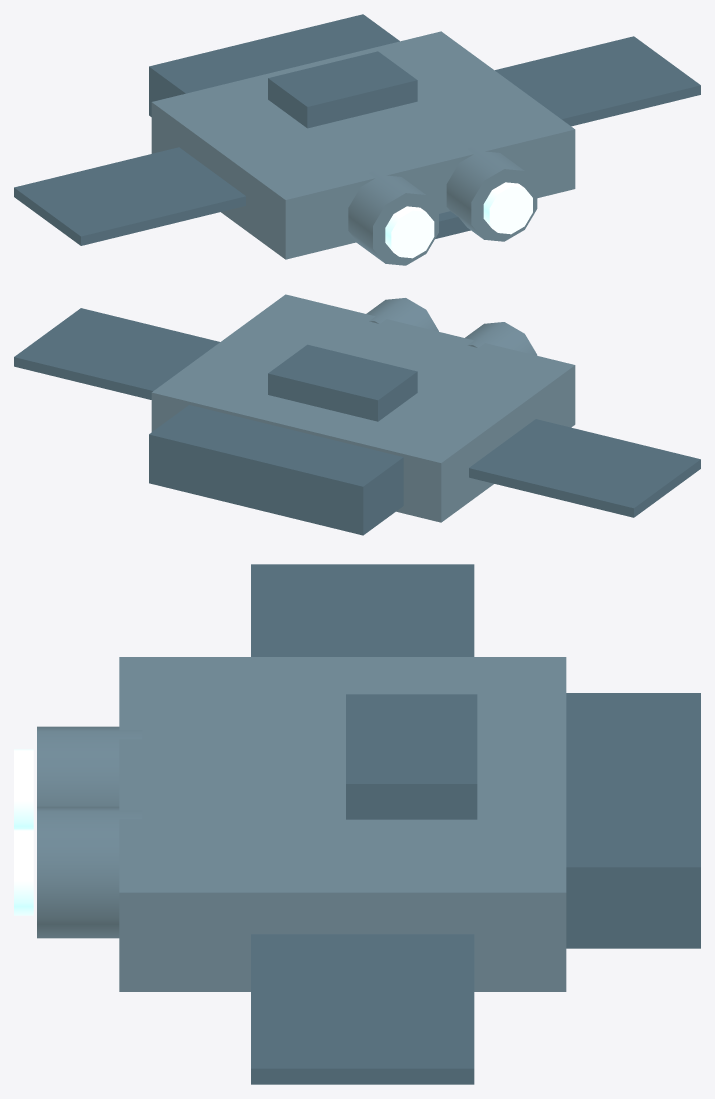
Rendered from interceptor_fighter.glb.
3 views of the same model, one above another, from view 1: azimuth 30°, elevation 25°; view 2: azimuth 150°, elevation 25°; view 3: azimuth 270°, elevation 25° (orthographic). The views are drawn at different scales.
Visible parts, largest first — view 1: MainHull, PortWing, StarboardWing, ForeHull, Bridge, Engine0, Engine1, EngineGlow0, EngineGlow1, Keel; view 2: MainHull, ForeHull, PortWing, StarboardWing, Bridge, Engine0, Engine1; view 3: MainHull, ForeHull, StarboardWing, PortWing, Bridge, Engine1, Engine0, EngineGlow1, EngineGlow0.
Part boxes in pixels (x1=…): MainHull: x1=151, y1=31, x2=575, y2=259; PortWing: x1=14, y1=147, x2=245, y2=245; StarboardWing: x1=495, y1=36, x2=700, y2=126; ForeHull: x1=149, y1=14, x2=399, y2=116; Bridge: x1=268, y1=51, x2=417, y2=128; Engine0: x1=348, y1=170, x2=438, y2=265; Engine1: x1=446, y1=146, x2=537, y2=241; EngineGlow0: x1=385, y1=206, x2=434, y2=258; EngineGlow1: x1=483, y1=182, x2=532, y2=234; Keel: x1=435, y1=211, x2=470, y2=238; MainHull: x1=151, y1=294, x2=575, y2=522; ForeHull: x1=149, y1=405, x2=403, y2=535; PortWing: x1=469, y1=419, x2=700, y2=517; StarboardWing: x1=14, y1=308, x2=219, y2=399; Bridge: x1=268, y1=344, x2=417, y2=421; Engine0: x1=465, y1=322, x2=537, y2=355; Engine1: x1=366, y1=298, x2=438, y2=331; MainHull: x1=119, y1=657, x2=566, y2=991; ForeHull: x1=566, y1=693, x2=700, y2=948; StarboardWing: x1=251, y1=934, x2=474, y2=1084; PortWing: x1=251, y1=564, x2=474, y2=656; Bridge: x1=346, y1=694, x2=477, y2=819; Engine1: x1=37, y1=806, x2=142, y2=938; Engine0: x1=37, y1=726, x2=142, y2=806; EngineGlow1: x1=14, y1=829, x2=33, y2=915; EngineGlow0: x1=14, y1=749, x2=33, y2=829.
Bounding box in the file's own units: 5.99 × 0.853 × 3.45.
